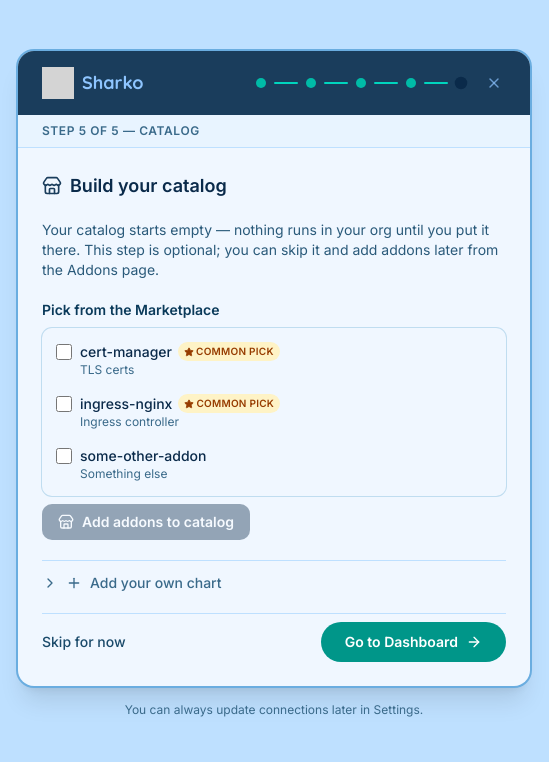
Test: FirstRunWizard step 5 — Catalog (v4 wave 2.5) › reaching step 5 shows the Catalog picker with nothing pre-ticked, and picking N addons sends ONE POST
The image size is (549, 762).
expect the element with test id "wizard-catalog-common-badge" is shown: met, box [178,342,280,361]
expect the checkbox with test id "wizard-catalog-pick-ingress-nginx" is not checked: met, box [56,396,72,412]
Click the checkbox with test id "wizard-catalog-pick-cert-manager": [64, 352] box [56,344,72,360]
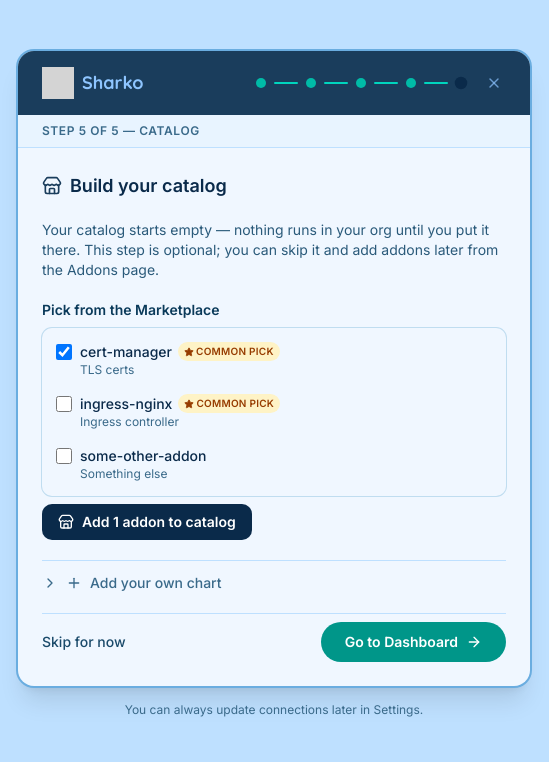
Click the checkbox with test id "wizard-catalog-pick-ingress-nginx": [64, 404] box [56,396,72,412]
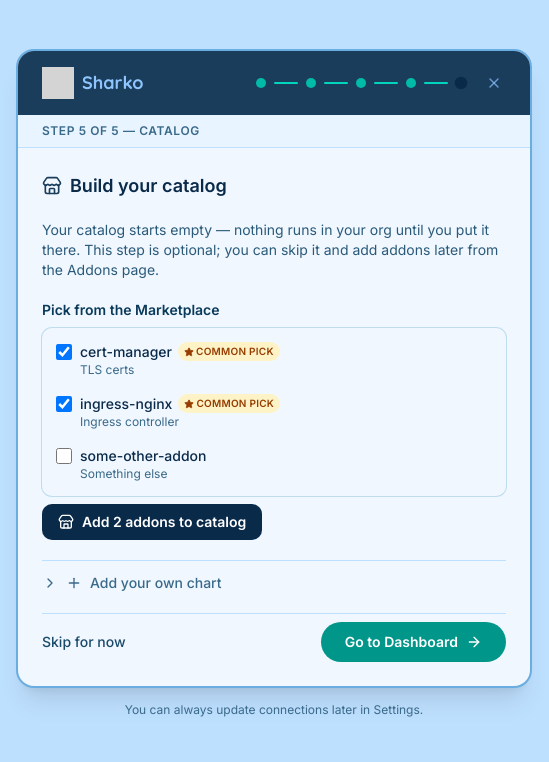
expect the checkbox with test id "wizard-catalog-pick-cert-manager" is checked: met, box [56,344,72,360]
expect the checkbox with test id "wizard-catalog-pick-ingress-nginx" is checked: met, box [56,396,72,412]
Click the button "Add 2 addons to catalog": [152, 522] box [42,504,262,540]
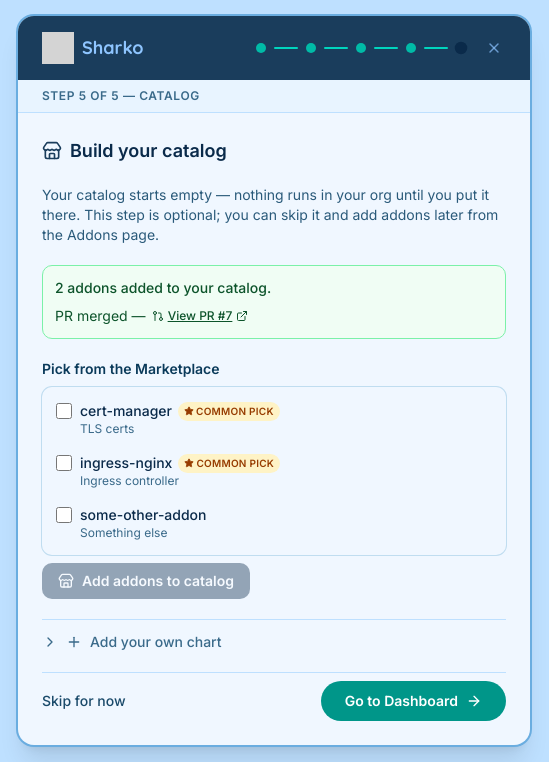
expect the text "2 addons added to your catalog." is shown: met, box [55,279,271,296]
expect the text "PR merged —" is shown: met, box [55,306,146,326]
